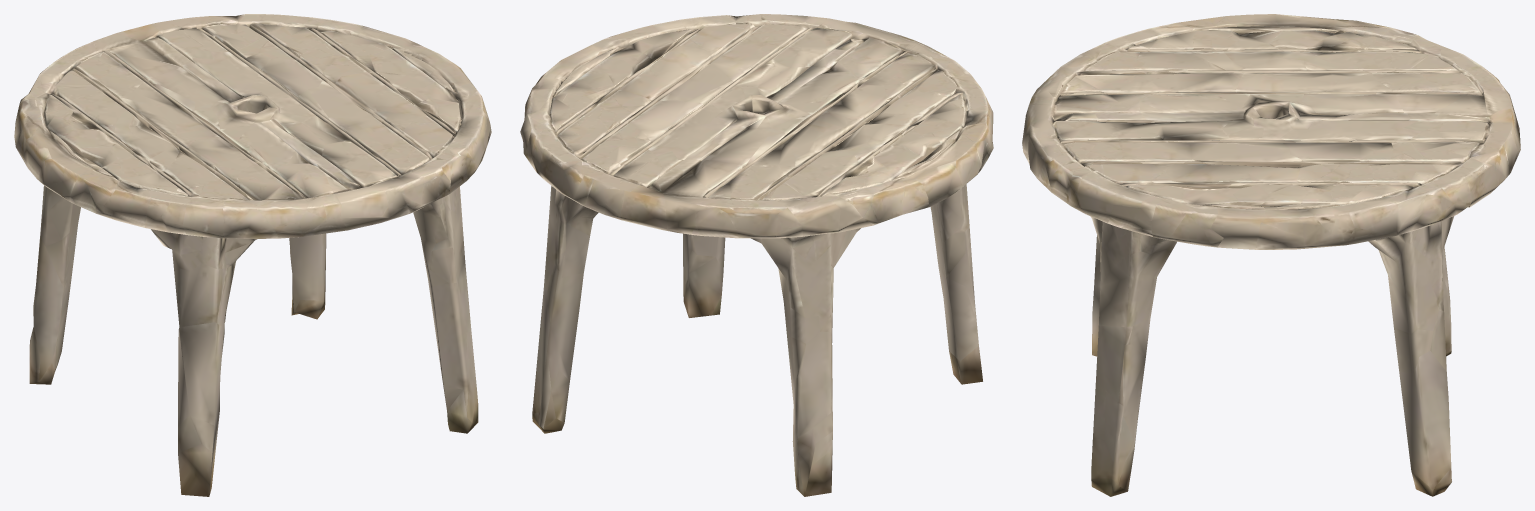
Rendered from d_patiotable.glb.
3 views of the same model, side by side, from view 1: azimuth 30°, elevation 25°; view 2: azimuth 150°, elevation 25°; view 3: azimuth 270°, elevation 25° (orthographic). The views are drawn at different scales.
Size of the model in its own units: 1.89 by 1.32 by 1.89.
1 material, 1 textured.
